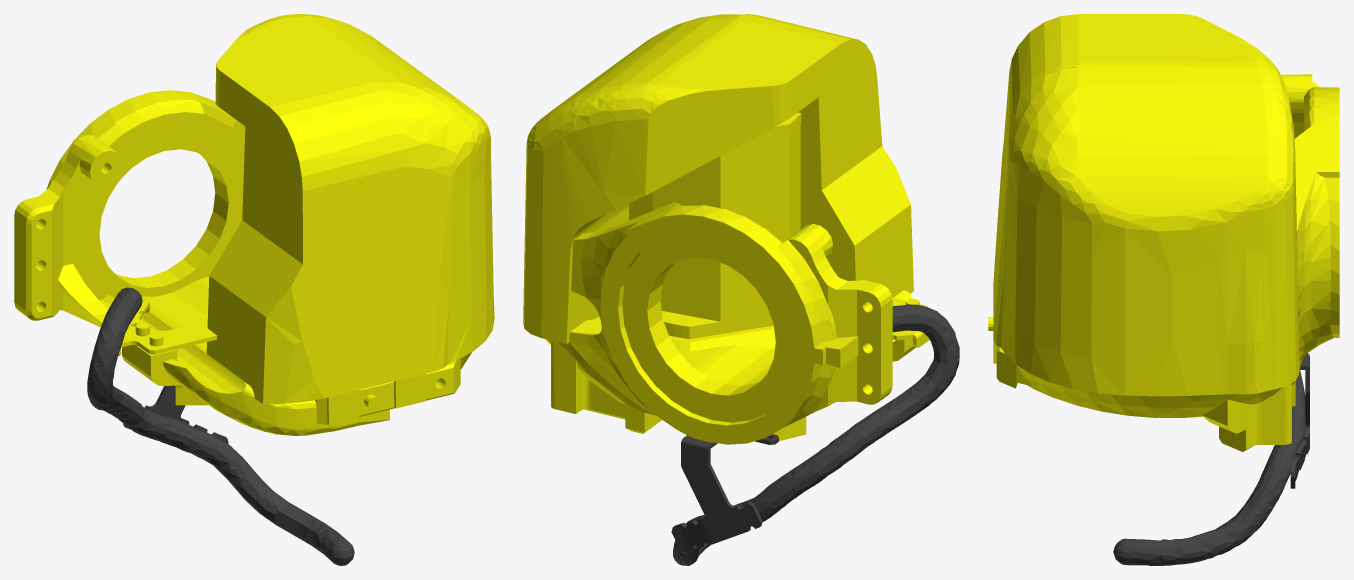
3 renders of one model, left to right at view 1: azimuth 30°, elevation 25°; view 2: azimuth 150°, elevation 25°; view 3: azimuth 270°, elevation 25°, orthographic.
Visible parts, largest first — view 1: node; view 2: node; view 3: node.
Boxes of the visible parts, bbox=[...] form: node: bbox=[14, 14, 494, 565]; node: bbox=[523, 14, 959, 565]; node: bbox=[988, 14, 1339, 565].
Size of the model in its own units: 322 by 398 by 252.
